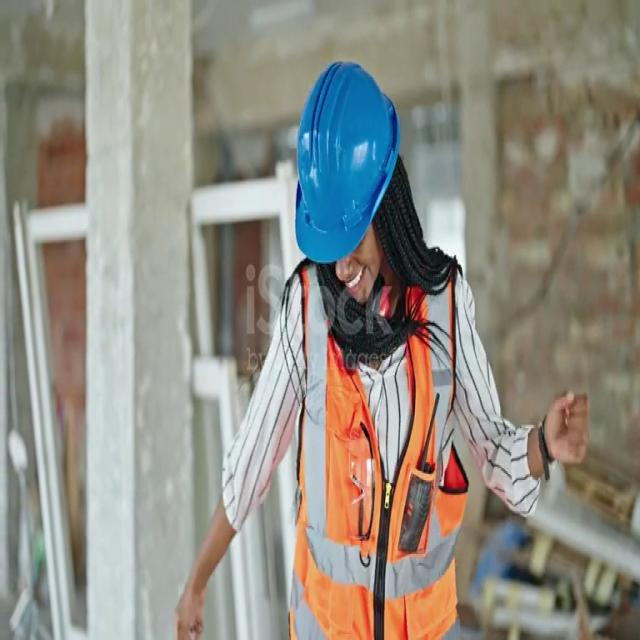capacete: (269, 45, 404, 272)
